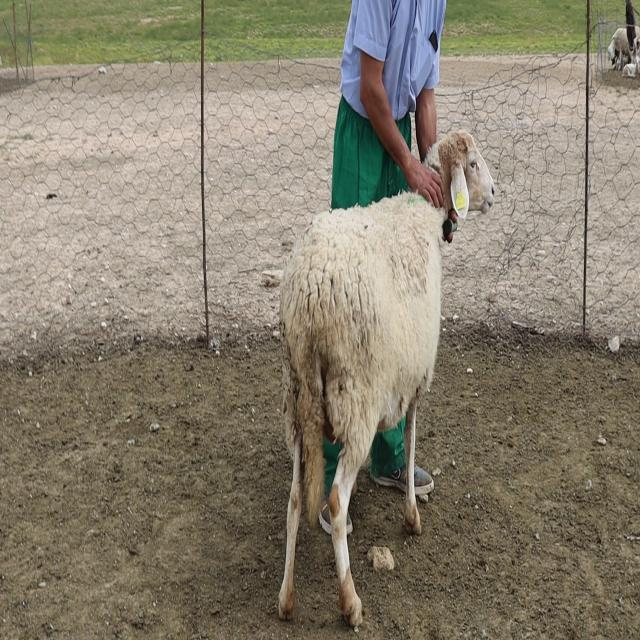Score_5: (278, 131, 494, 627)
